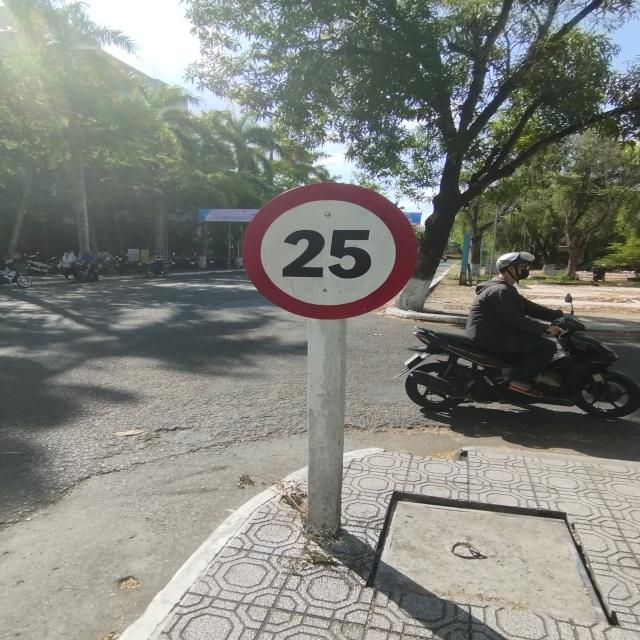Tre_Em: (241, 181, 420, 321)
